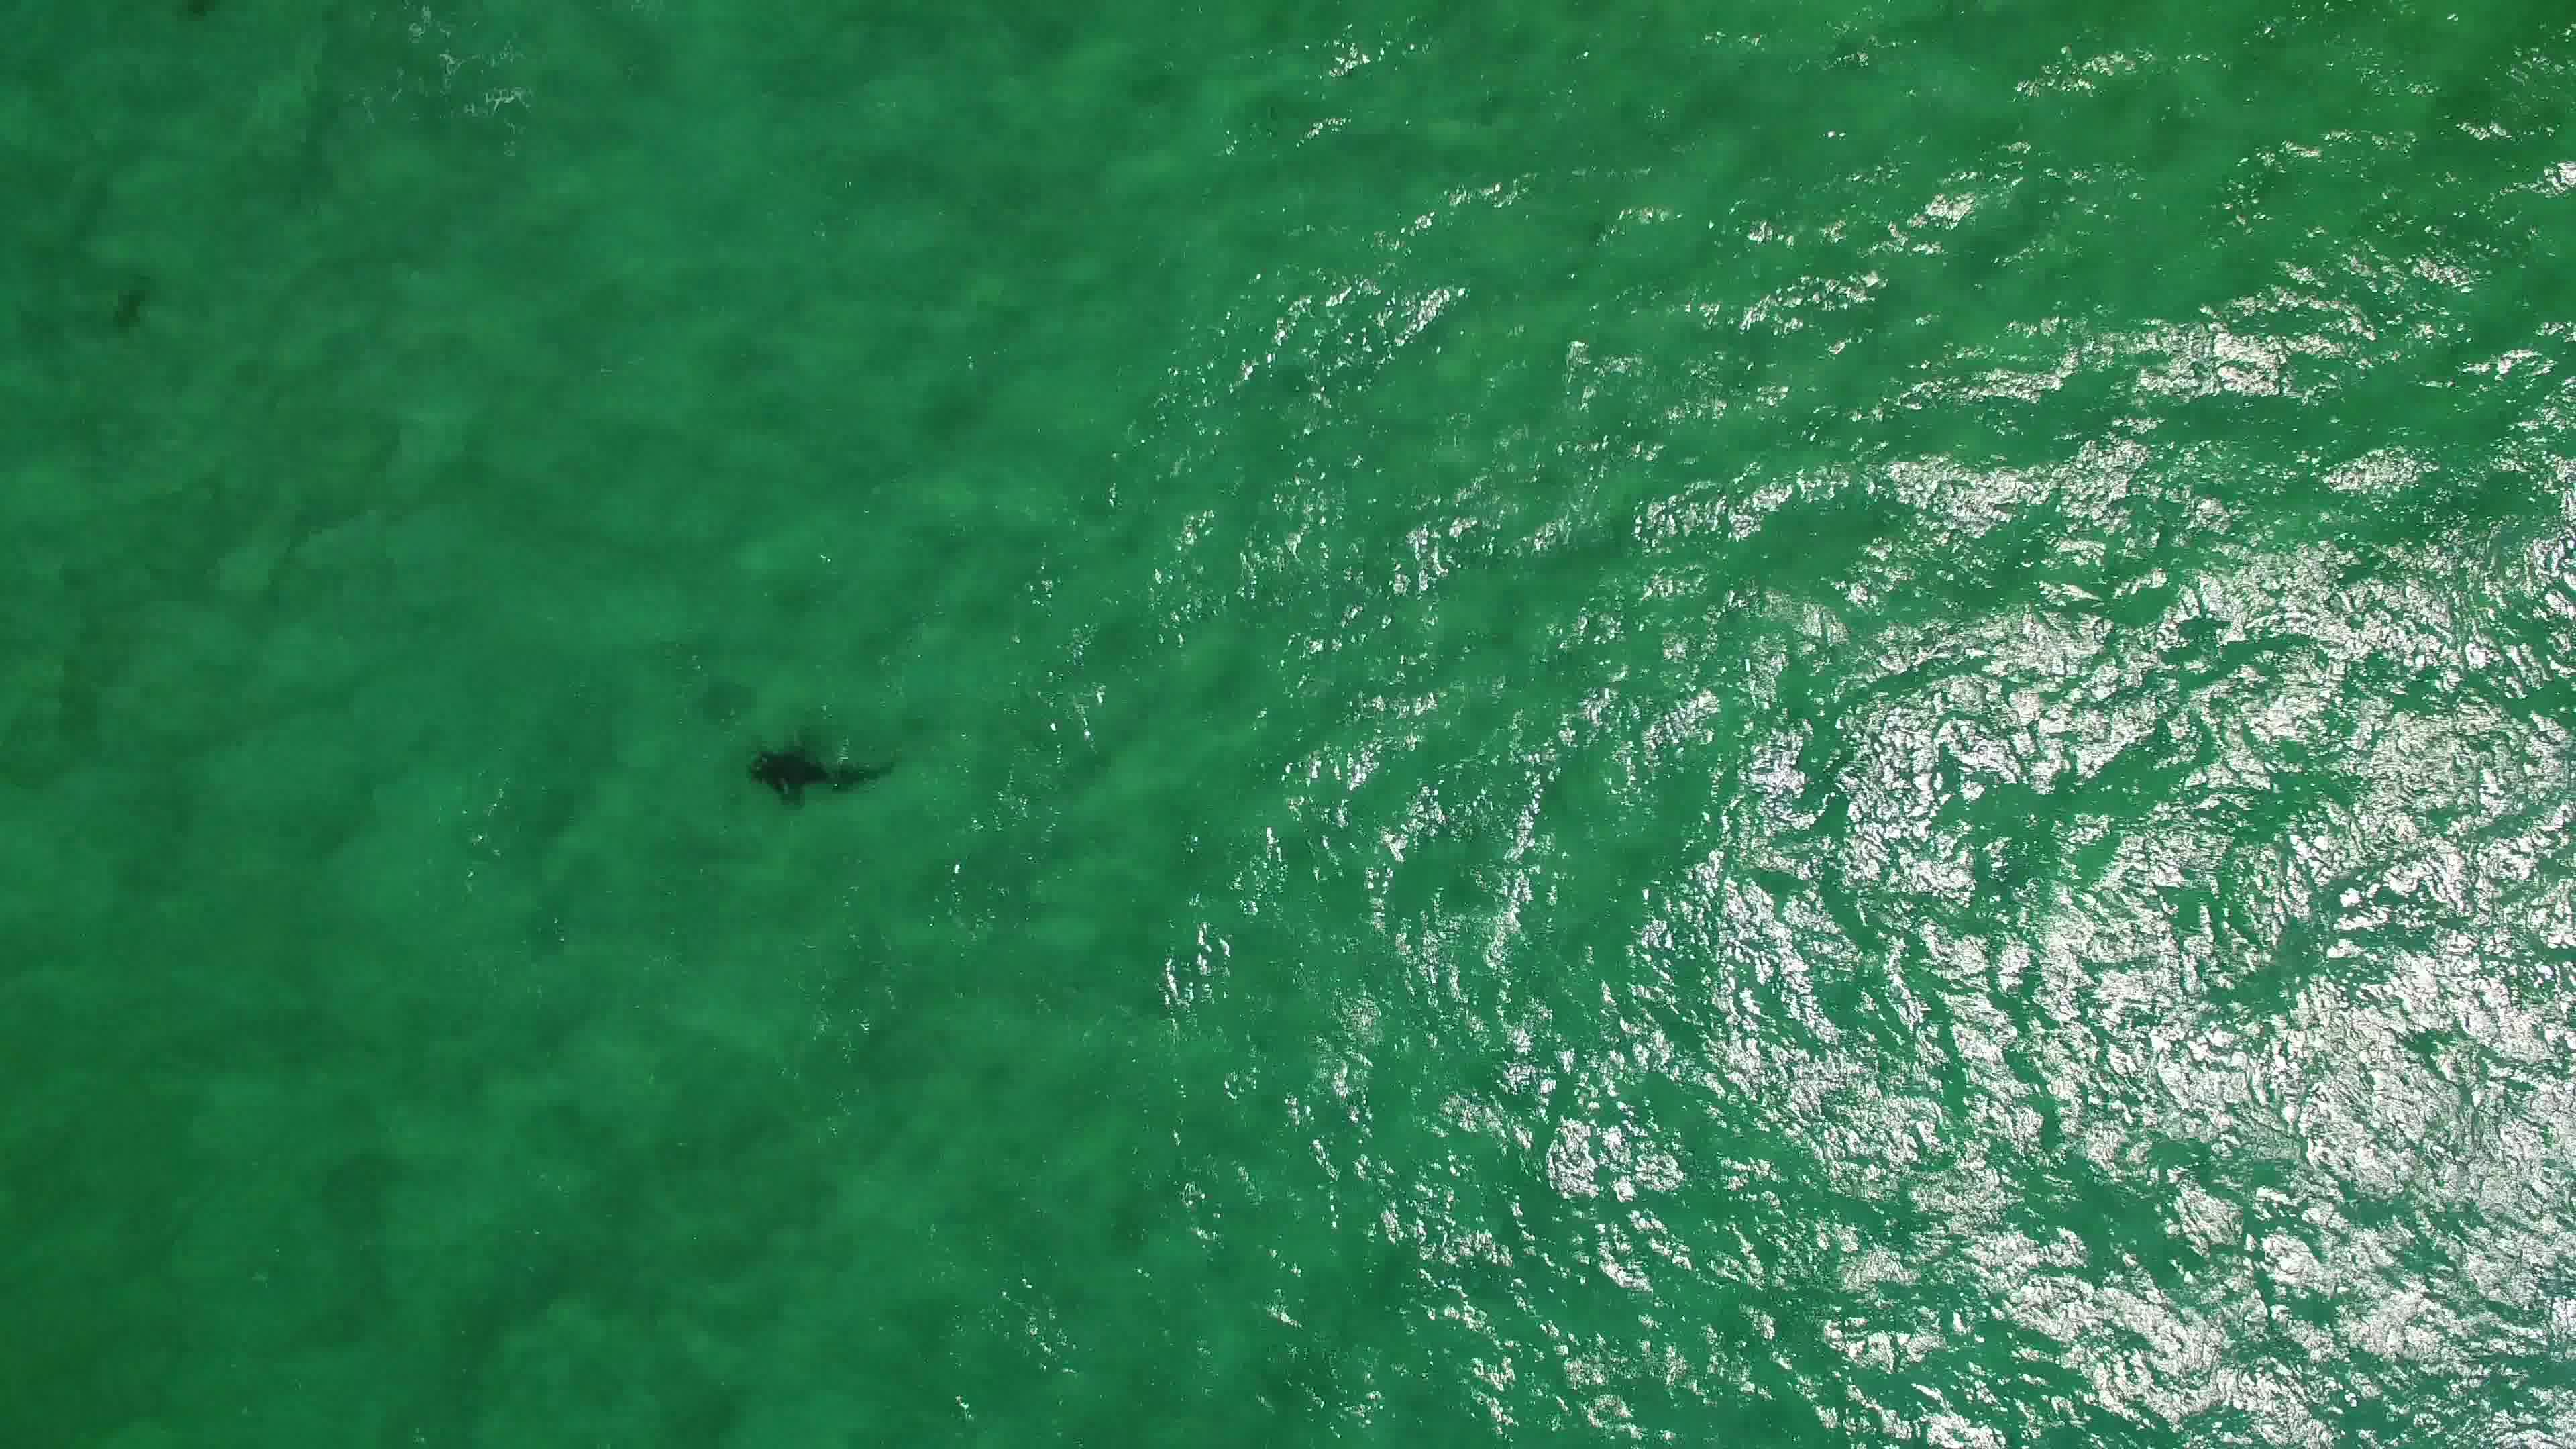shark: (740, 731, 909, 816)
